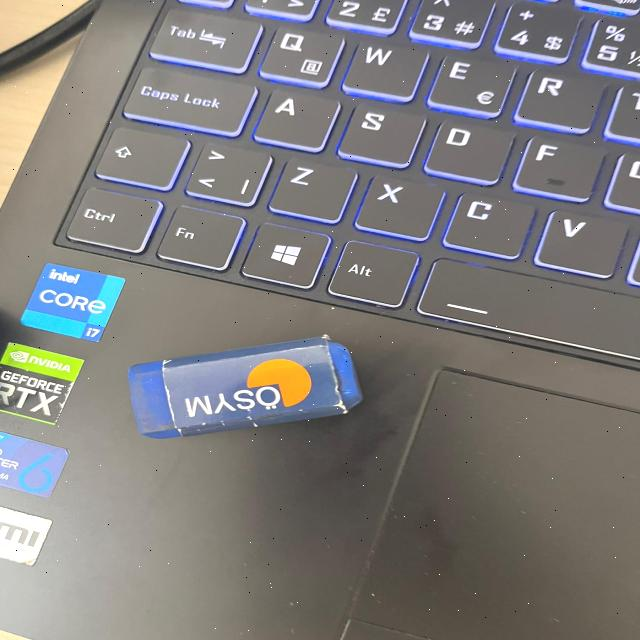eraser: (105, 335, 388, 441)
